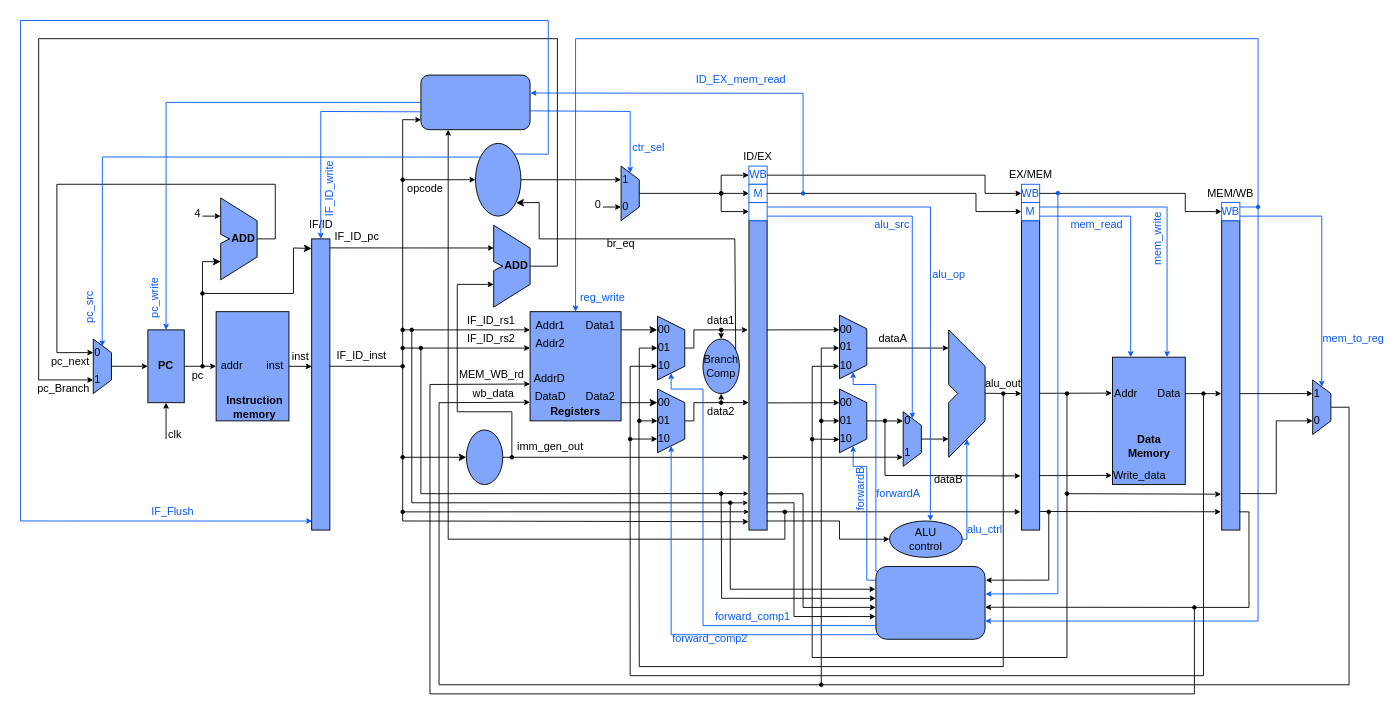
The diagram is 1400 pixels wide and 716 high, and some of its shapes have lost their labels. Each missing label, with the centre of its shape:
ALU: [966,411]
Control: [498,179]
EX: [757,211]
Forwarding unit: [930,602]
Hazard detection unit: [475,102]
Imm Gen: [484,457]
pre_pc: [101,366]
